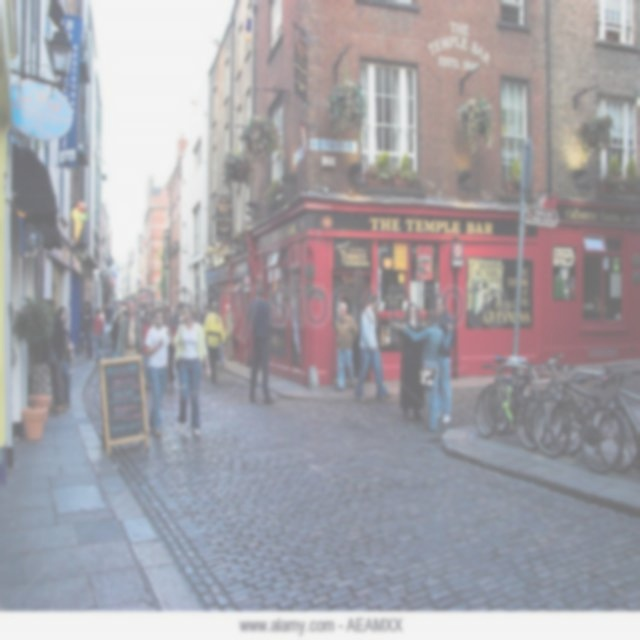pessoa: (397, 310, 455, 435), (165, 303, 212, 437), (353, 292, 394, 404), (143, 304, 172, 439), (247, 286, 279, 406), (397, 302, 425, 424), (431, 294, 455, 423), (333, 300, 359, 395), (51, 304, 72, 412), (202, 298, 227, 386), (115, 297, 144, 359), (140, 307, 157, 393), (471, 264, 500, 313), (78, 297, 94, 362), (164, 304, 176, 390), (51, 352, 66, 414), (90, 307, 104, 363), (223, 303, 235, 362), (134, 298, 154, 326), (111, 312, 122, 361), (554, 266, 569, 298), (163, 301, 183, 323), (108, 300, 127, 323), (191, 304, 207, 324), (218, 338, 227, 371), (98, 306, 106, 324), (206, 301, 212, 313)
